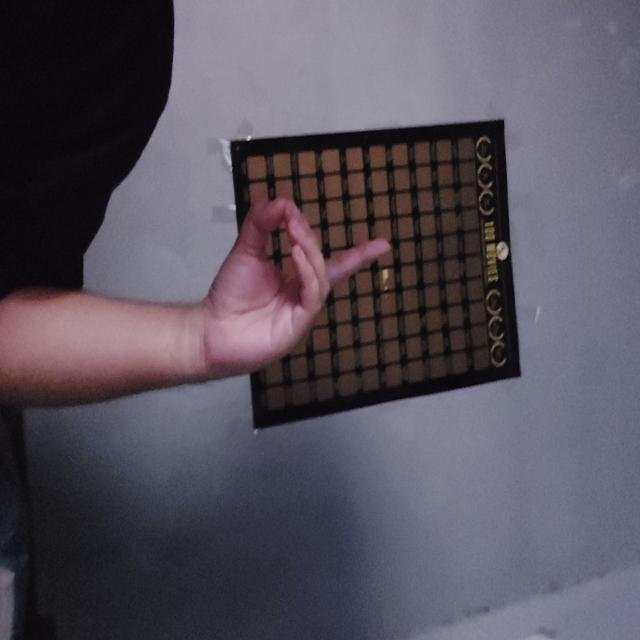D: (194, 246, 386, 434)
